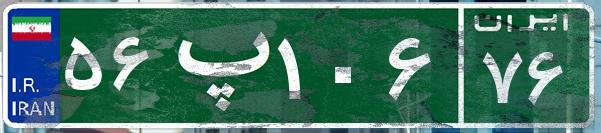0: (330, 28, 385, 110)
1: (273, 28, 330, 110)
5: (57, 26, 110, 107)
6: (385, 28, 445, 110), (110, 28, 158, 105), (525, 38, 570, 115)
7: (475, 38, 525, 113)
پ: (158, 15, 273, 115)
